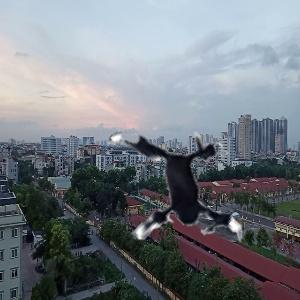drone: (76, 102, 265, 291)
